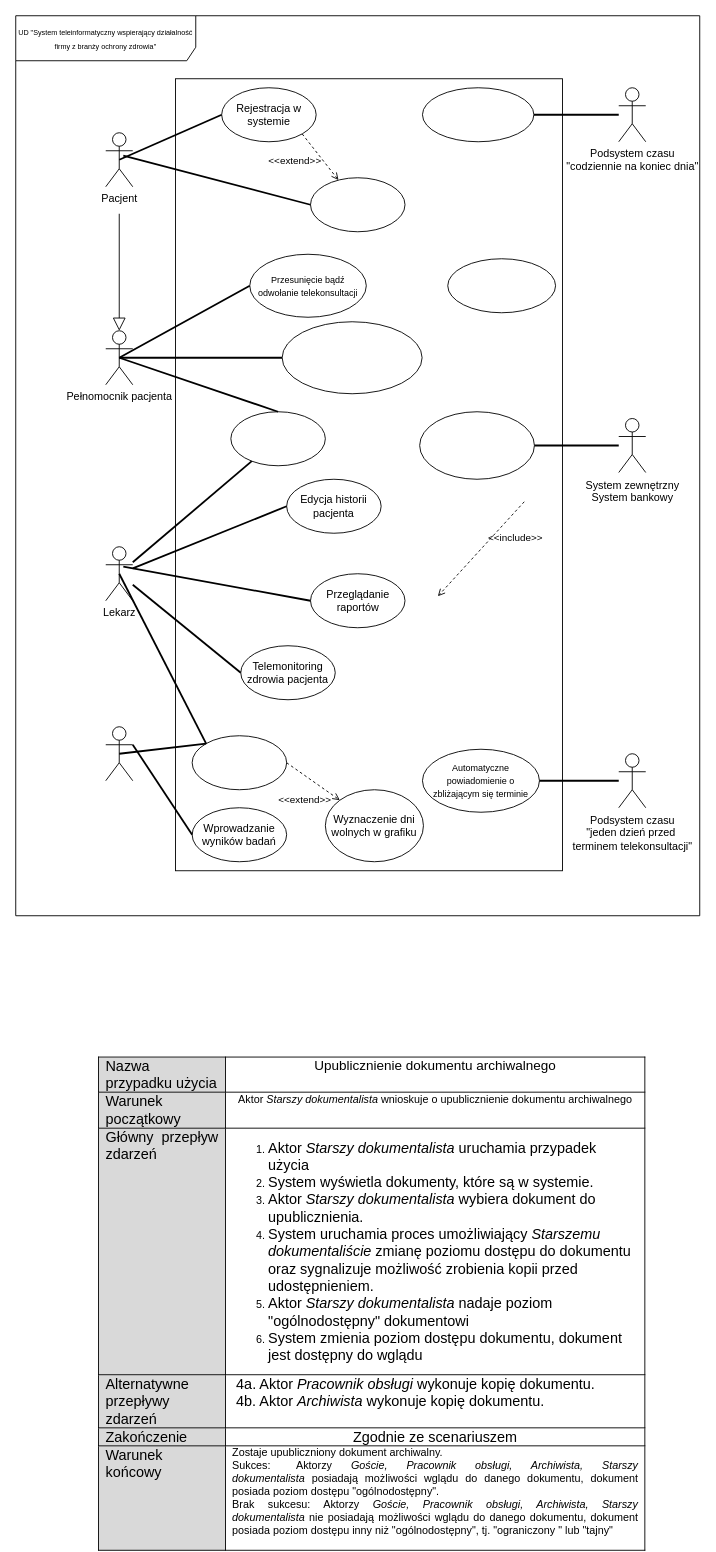
Some shapes in this 716 by 1552 pixel diagram are drawn without their labels. The centre of each missing label's shape, as x and y in pixels:
"Diagnosta laboratoryjny" belongs at point (119, 753).
"Generowanie raportu o stanie zdrowia pacjenta" belongs at point (478, 114).
"Przeglądanie wyników badań" belongs at point (277, 438).
"Realizacja opłat za świadczone usługi" belongs at point (476, 445).
"Telekonsultacja z lekarzem - telekonferencja" belongs at point (501, 285).
"Wyznaczenie pełnomocnika" belongs at point (357, 204).
"Wyświetlenie grafiku" belongs at point (239, 762).
"Zapisanie się na telekonsultacje z lekarzem" belongs at point (351, 357).
